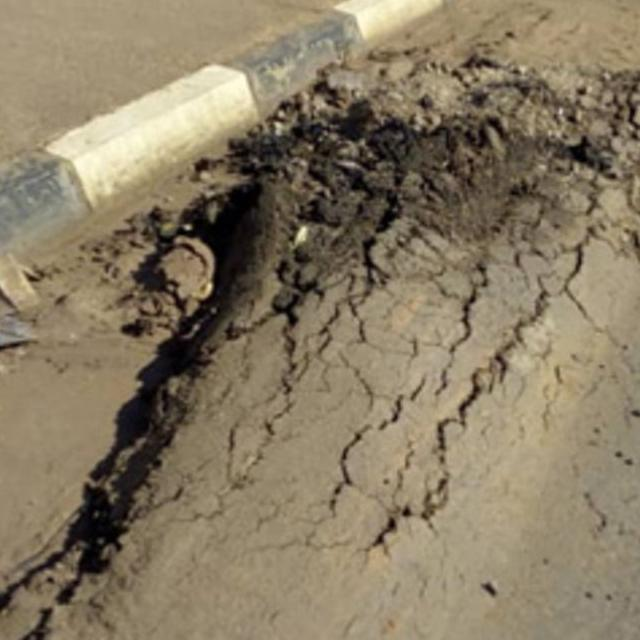retak_kulit_buaya: (224, 236, 614, 546)
retak_memanjang: (0, 358, 192, 640)
